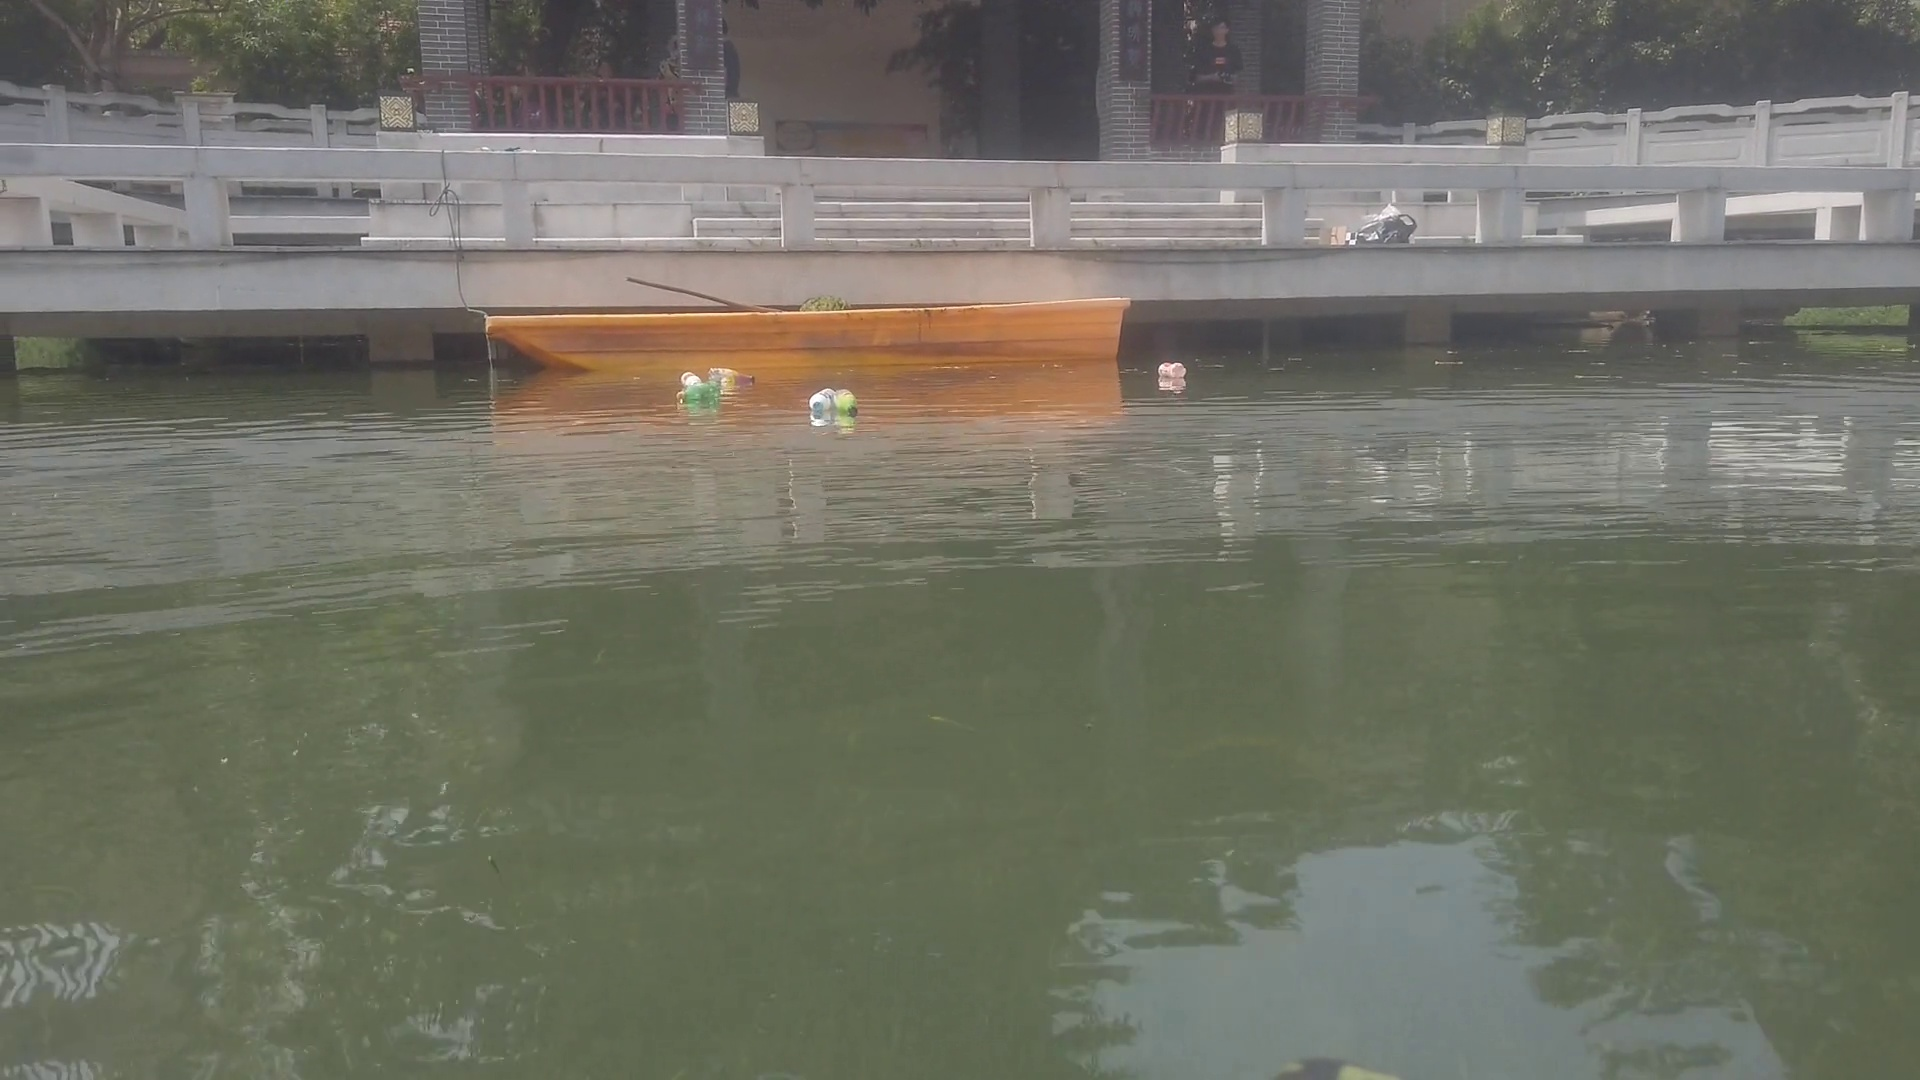bottle: (708, 367, 756, 389), (676, 385, 720, 402), (833, 390, 856, 417), (808, 384, 829, 407), (1155, 363, 1183, 378), (678, 369, 702, 388)
